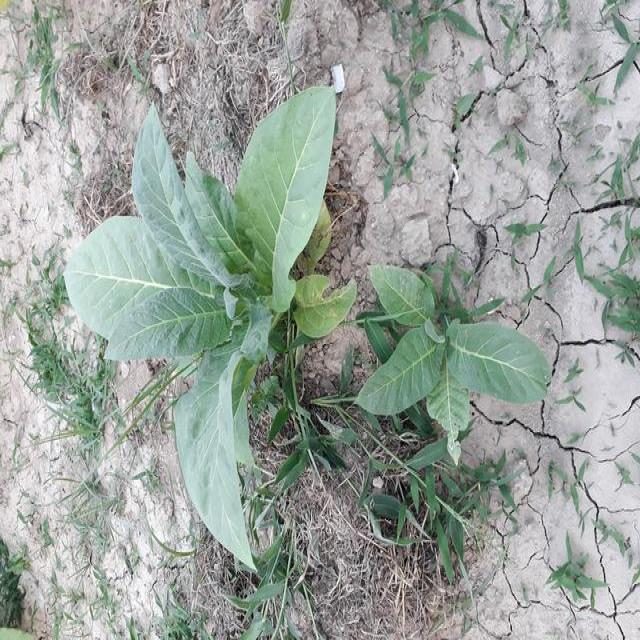crop: (73, 78, 360, 567)
